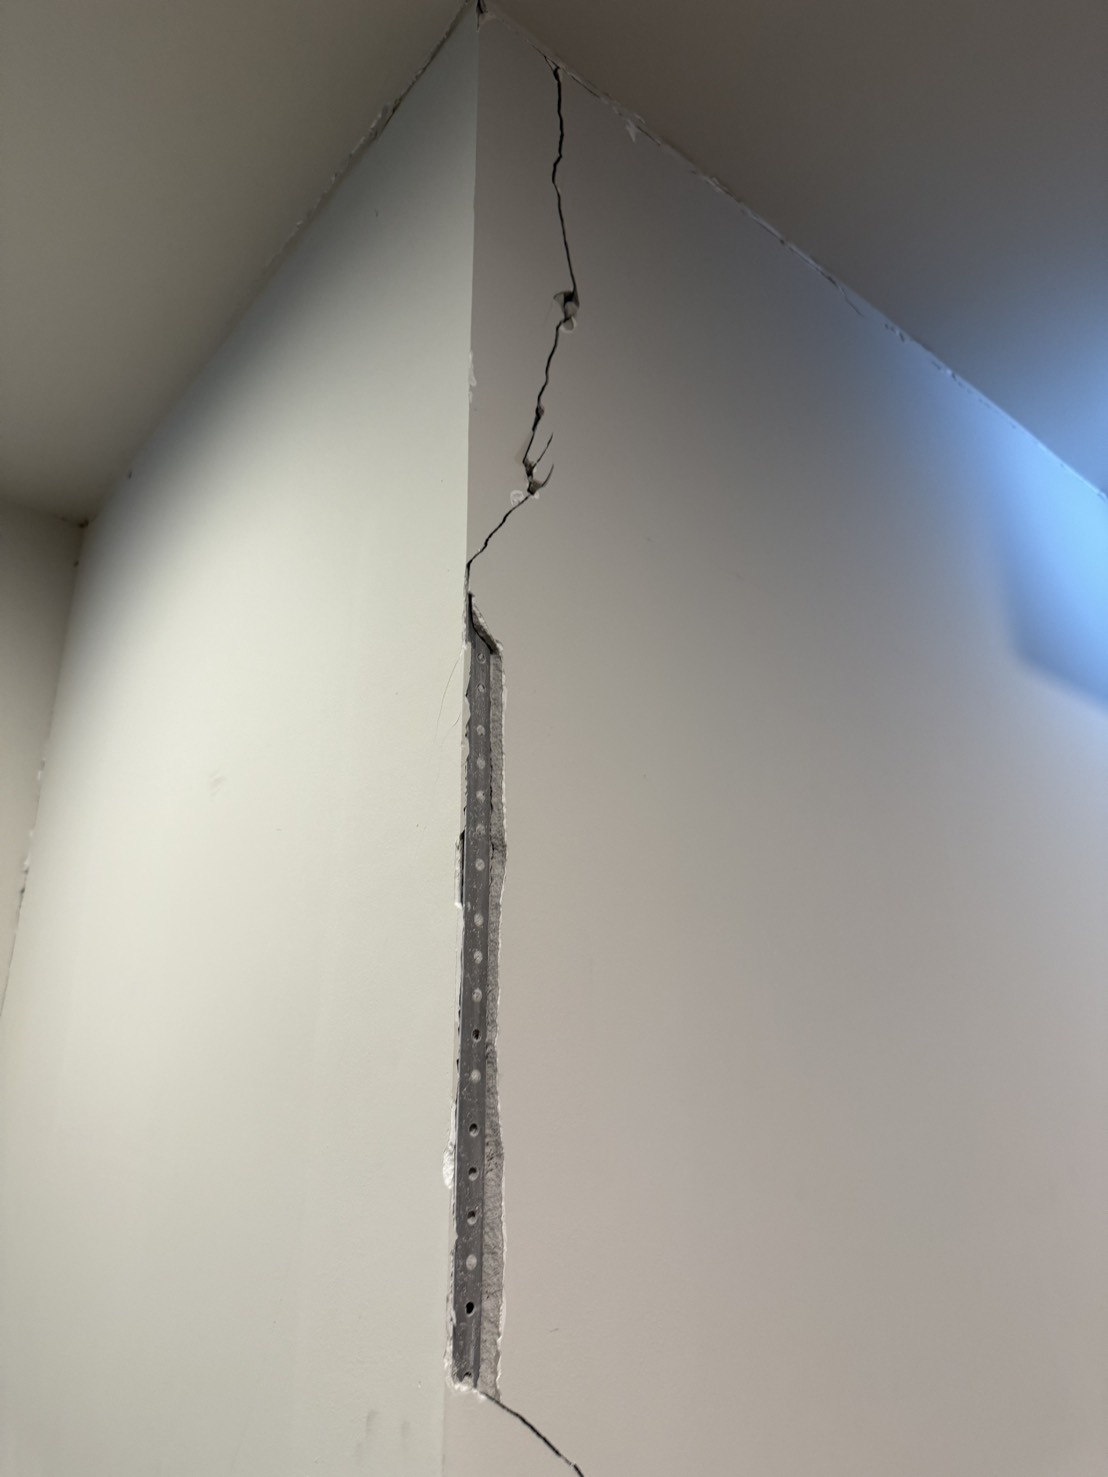Medium: (421, 105, 635, 1403)
